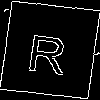R: (25, 25, 70, 75)
